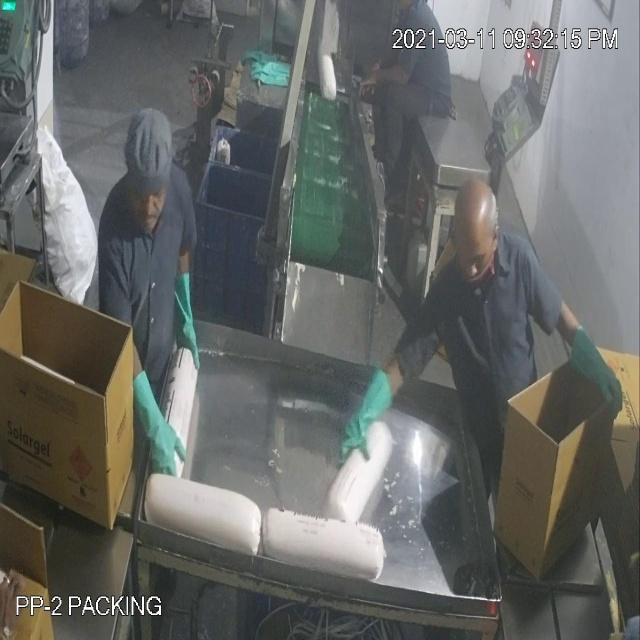Guantes: (326, 353, 396, 476), (566, 315, 626, 420), (161, 253, 206, 377)
Sin_guantes: (353, 55, 428, 111)
